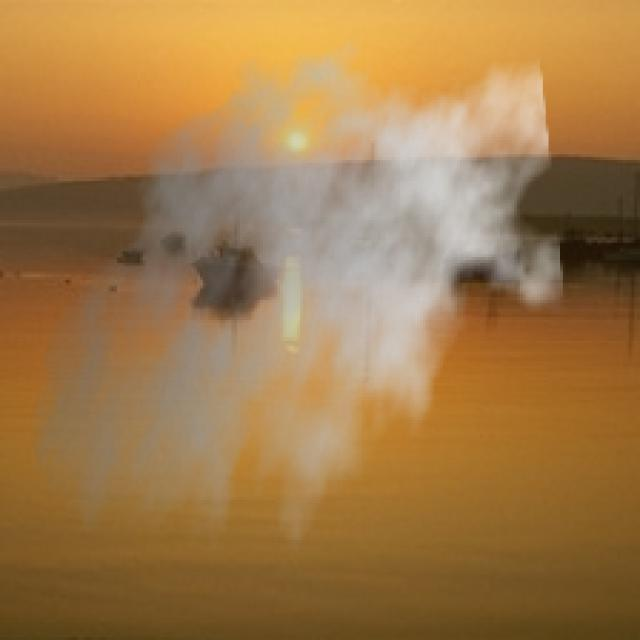smoke: (26, 20, 566, 589)
